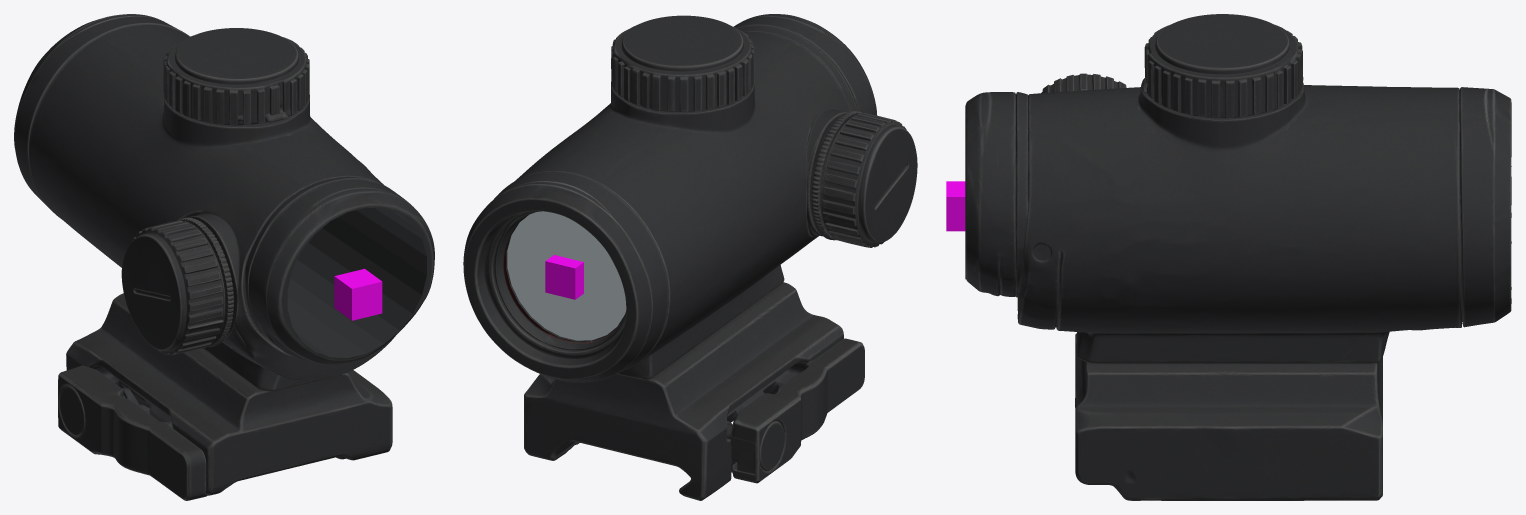
File: HoloSight_Shotgun.glb
The picture shows the model from 3 angles, left to right: view 1: azimuth 30°, elevation 25°; view 2: azimuth 150°, elevation 25°; view 3: azimuth 270°, elevation 25°; orthographic projection. The views are drawn at different scales.
Parts seen in each view (by area): view 1: RedDot_27, RedDot_22, RedDot_08, RedDot_34, RedDot_26, RedDot_15, RedDot_14, RedDot_11, RedDot_09, RedDot_10, RedDot_16, RedDot_17 (+20 smaller); view 2: RedDot_08, RedDot_01, Glass, RedDot_10, RedDot_09, RedDot_11, RedDot_15, RedDot_14, RedDot_13, RedDot_12, RedDot_16, RedDot_22 (+21 smaller); view 3: RedDot_08, RedDot_09, RedDot_15, RedDot_14, RedDot_10, RedDot_16, RedDot_34, RedDot_13, RedDot_11, RedDot_17, RedDot_12, RedDot_26 (+21 smaller).
Part boxes in pixels (x1=…): RedDot_27: x1=150, y1=154, x2=392, y2=500; RedDot_22: x1=123, y1=134, x2=426, y2=498; RedDot_08: x1=29, y1=24, x2=188, y2=370; RedDot_34: x1=248, y1=179, x2=434, y2=364; RedDot_26: x1=145, y1=148, x2=390, y2=500; RedDot_15: x1=109, y1=36, x2=306, y2=465; RedDot_14: x1=86, y1=31, x2=292, y2=456; RedDot_11: x1=66, y1=36, x2=423, y2=443; RedDot_09: x1=64, y1=53, x2=165, y2=375; RedDot_10: x1=58, y1=75, x2=163, y2=437; RedDot_16: x1=120, y1=49, x2=327, y2=471; RedDot_17: x1=132, y1=58, x2=331, y2=474; RedDot_08: x1=515, y1=137, x2=714, y2=500; RedDot_01: x1=463, y1=182, x2=653, y2=382; Glass: x1=507, y1=211, x2=626, y2=341; RedDot_10: x1=566, y1=115, x2=779, y2=485; RedDot_09: x1=527, y1=121, x2=732, y2=497; RedDot_11: x1=506, y1=61, x2=781, y2=474; RedDot_15: x1=620, y1=20, x2=818, y2=440; RedDot_14: x1=598, y1=28, x2=801, y2=456; RedDot_13: x1=594, y1=41, x2=800, y2=465; RedDot_12: x1=586, y1=49, x2=786, y2=469; RedDot_16: x1=646, y1=16, x2=825, y2=430; RedDot_22: x1=754, y1=72, x2=876, y2=406; RedDot_08: x1=1355, y1=86, x2=1460, y2=500; RedDot_09: x1=1311, y1=85, x2=1391, y2=500; RedDot_15: x1=1187, y1=14, x2=1252, y2=500; RedDot_14: x1=1209, y1=14, x2=1287, y2=500; RedDot_10: x1=1288, y1=85, x2=1352, y2=500; RedDot_16: x1=1137, y1=15, x2=1213, y2=500; RedDot_34: x1=965, y1=92, x2=1015, y2=296; RedDot_13: x1=1222, y1=18, x2=1294, y2=500; RedDot_11: x1=1240, y1=32, x2=1340, y2=500; RedDot_17: x1=1130, y1=21, x2=1208, y2=500; RedDot_12: x1=1235, y1=25, x2=1339, y2=500; RedDot_26: x1=1071, y1=73, x2=1109, y2=484.
Size of the model in its own units: 0.2482 by 0.371 by 0.4502.
Materials: 4 (1 with a texture image).
